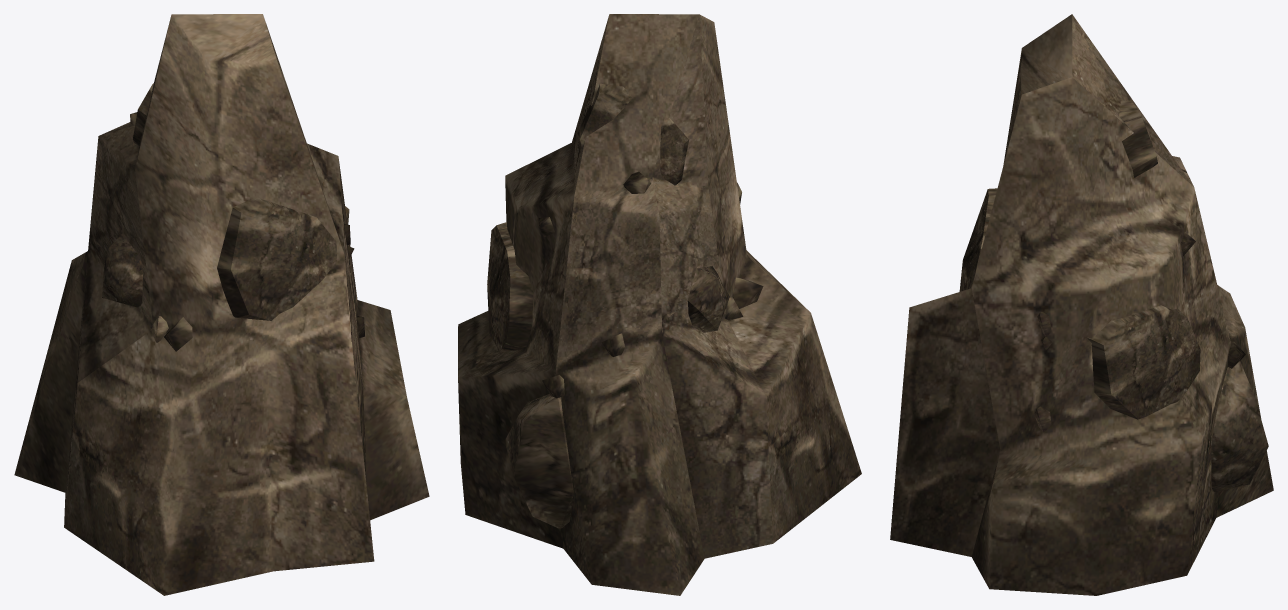
The model's file is fossil_tree.glb.
3 renders of one model, left to right at view 1: azimuth 30°, elevation 25°; view 2: azimuth 150°, elevation 25°; view 3: azimuth 270°, elevation 25°, orthographic. The views are drawn at different scales.
Parts seen in each view (by area): view 1: ore.001; view 2: ore.001; view 3: ore.001.
Part boxes in pixels (x1,y1,x2,y2): ore.001: (14,14,429,595); ore.001: (458,14,861,595); ore.001: (890,14,1273,595).
Bounding box in the file's own units: 111 × 168 × 121.
1 material, 1 textured.
